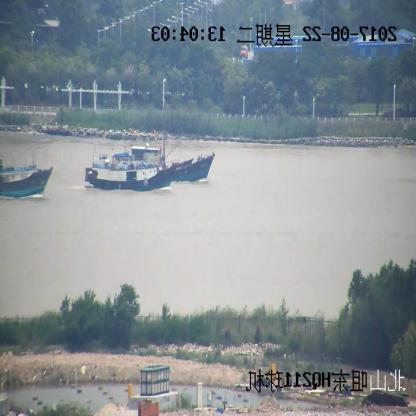Fishing Boat: (86, 149, 175, 193), (126, 146, 214, 183), (0, 160, 53, 198)
